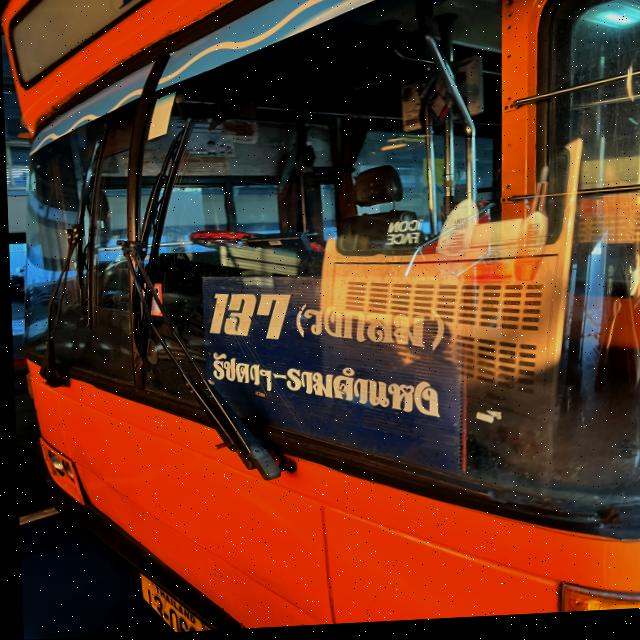BMTA-bus: (6, 0, 640, 640)
Destination-Sign-Normal: (191, 263, 465, 485)
